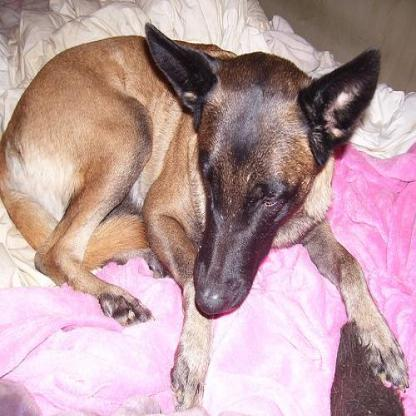malinois: (0, 20, 409, 407)
